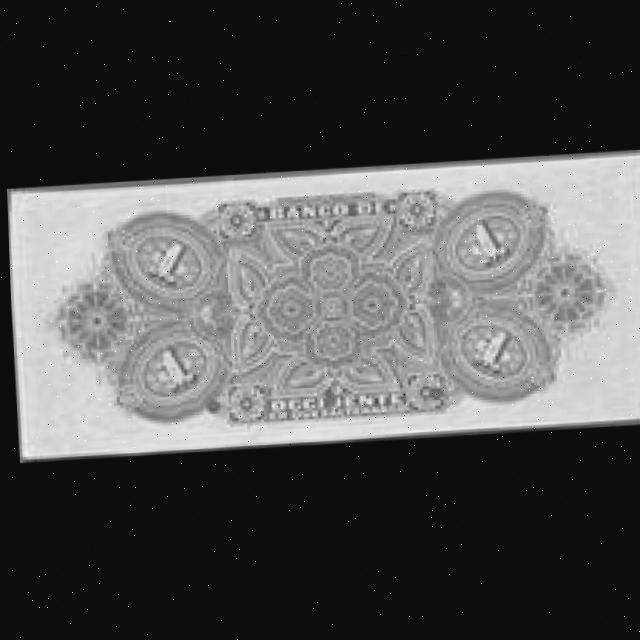banknote: (5, 152, 640, 462)
